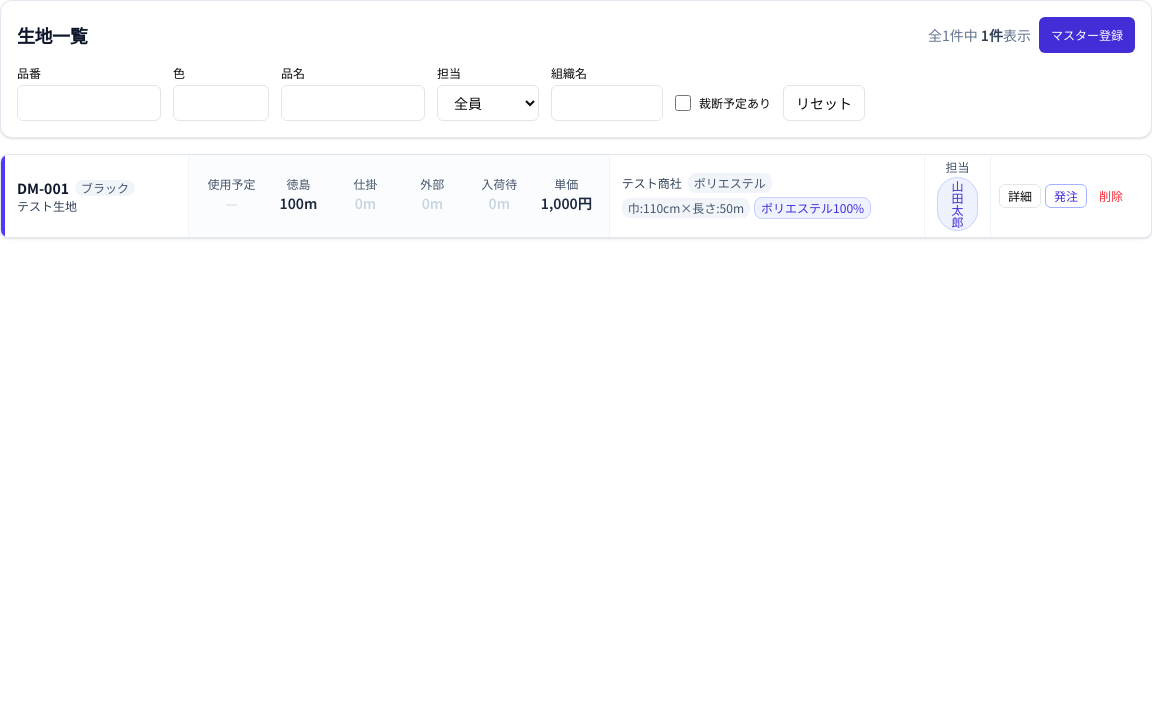
Test: ProductListTable 履歴 › 詳細ダイアログから裁断履歴を開ける
Click the button "詳細" at (1020, 196), box left=999, top=184, right=1041, bottom=208
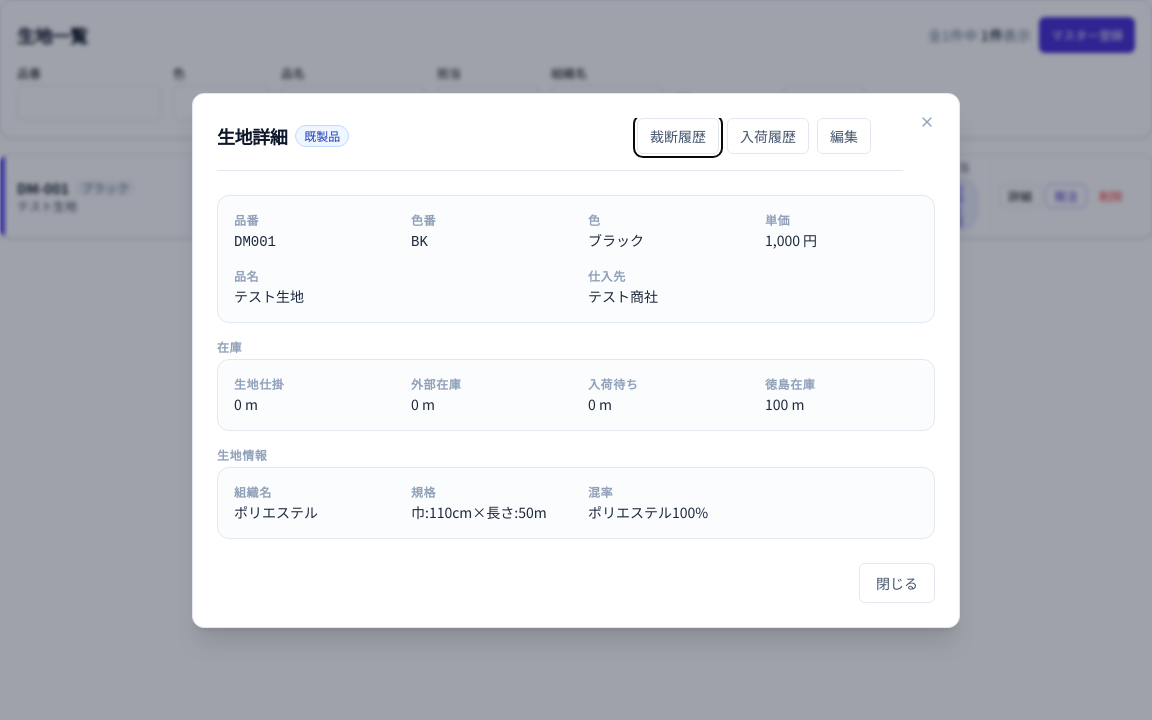
Click the button "裁断履歴" at (678, 136), box left=637, top=118, right=719, bottom=154
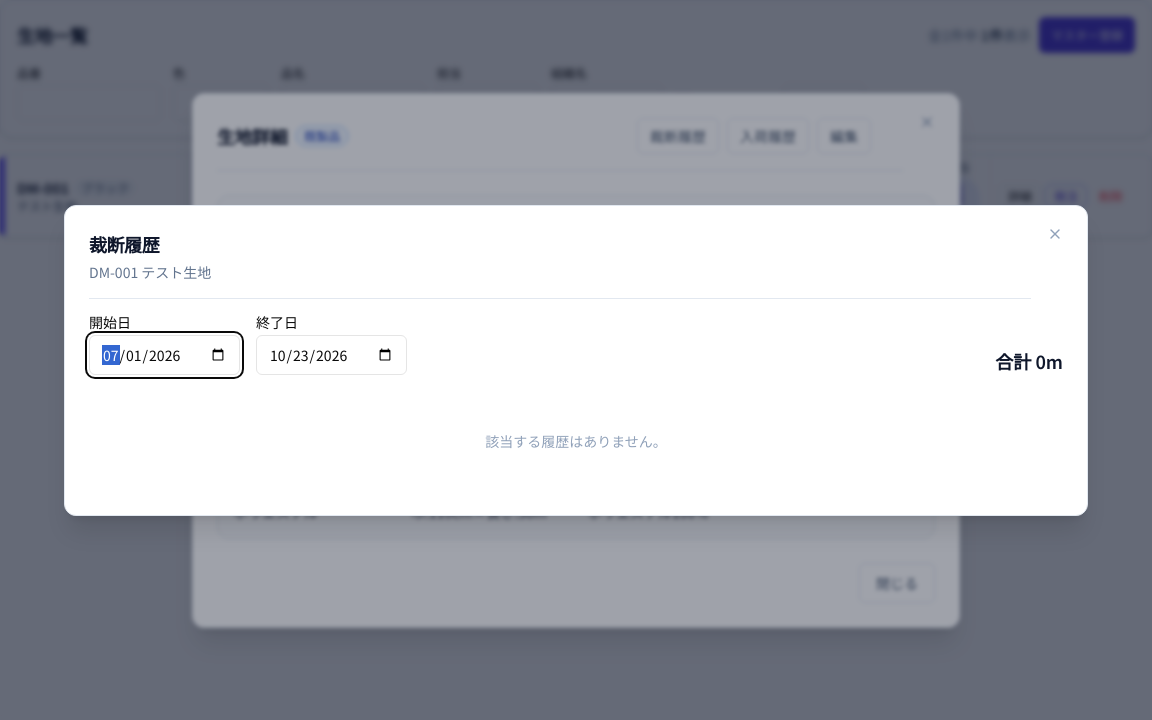
Expected: the heading "裁断履歴" is shown, left=89, top=230, right=159, bottom=256
